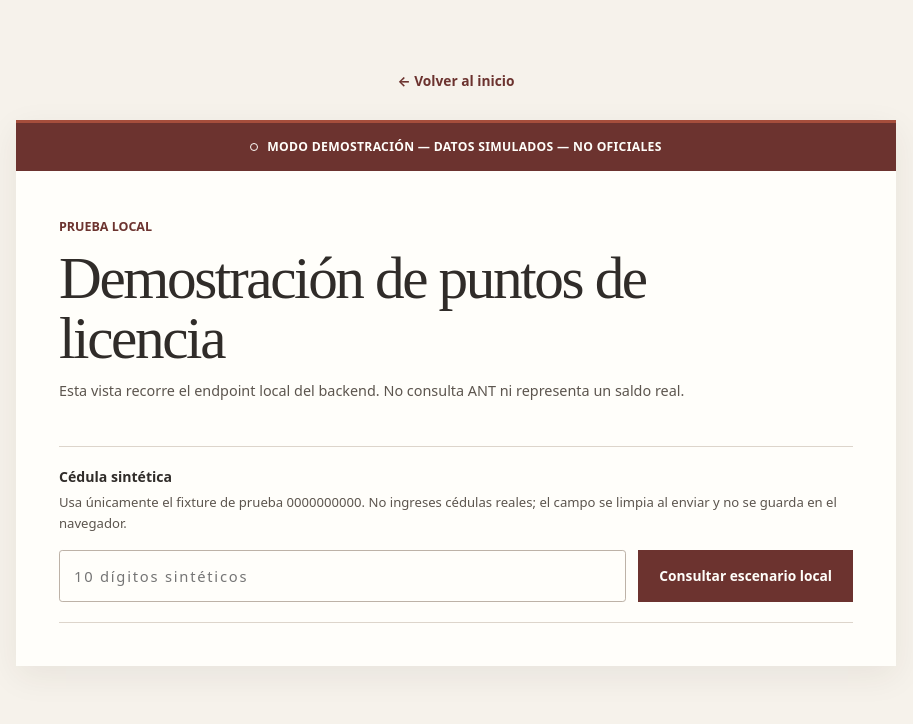
Test case: demostración local de puntos ANT › muestra ausencia de información sin inventar un saldo
In the field labelled "Cédula sintética": (343, 576) [59, 550, 626, 602], type "0000000000"
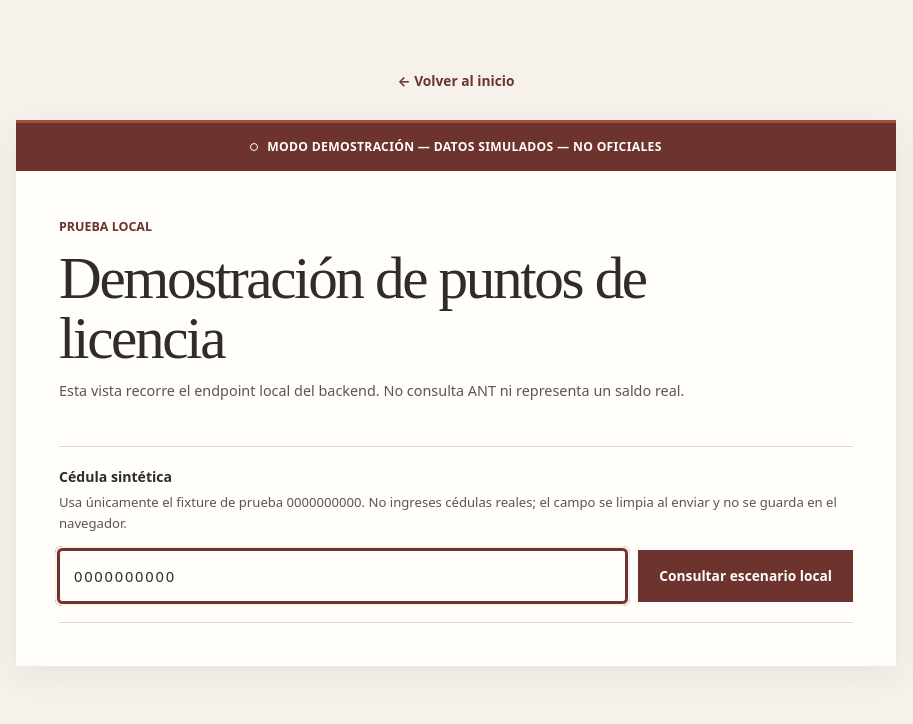
Click the button "Consultar escenario local": (746, 576) [638, 550, 853, 602]
(page scrolled)
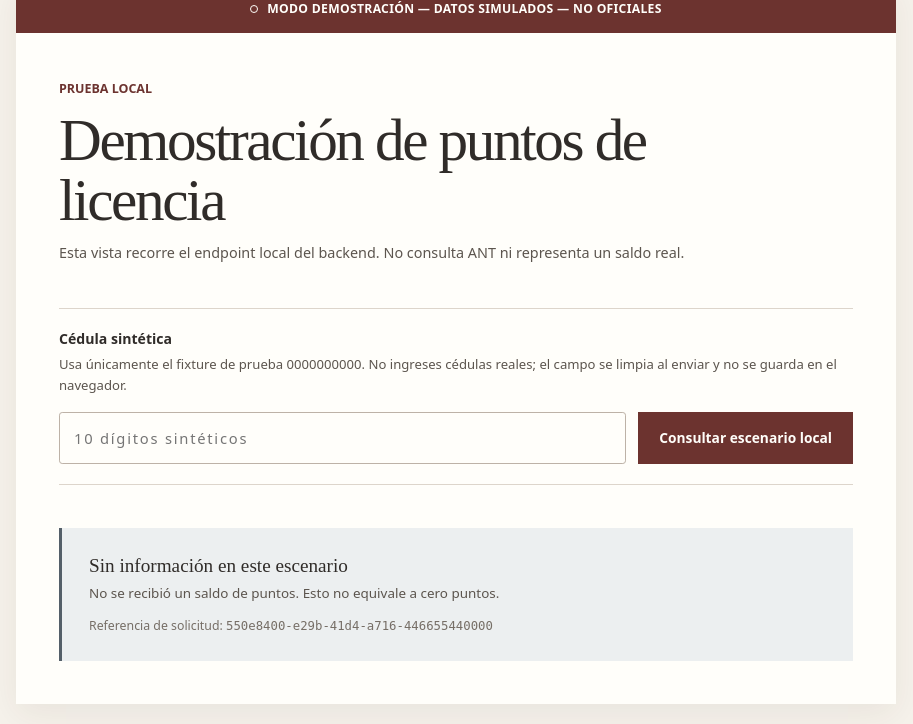
Expected: the message shows "Sin información en este escenario", [89, 555, 348, 576]
Expected: the message shows "no equivale a cero puntos", [89, 584, 499, 602]
Expected: the message shows "550e8400-e29b-41d4-a716-446655440000", [226, 619, 493, 633]
